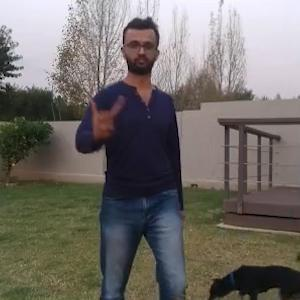takeoff-hand: (89, 88, 125, 139)
